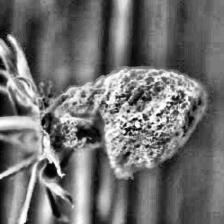Gray Mold: (0, 35, 208, 224)
